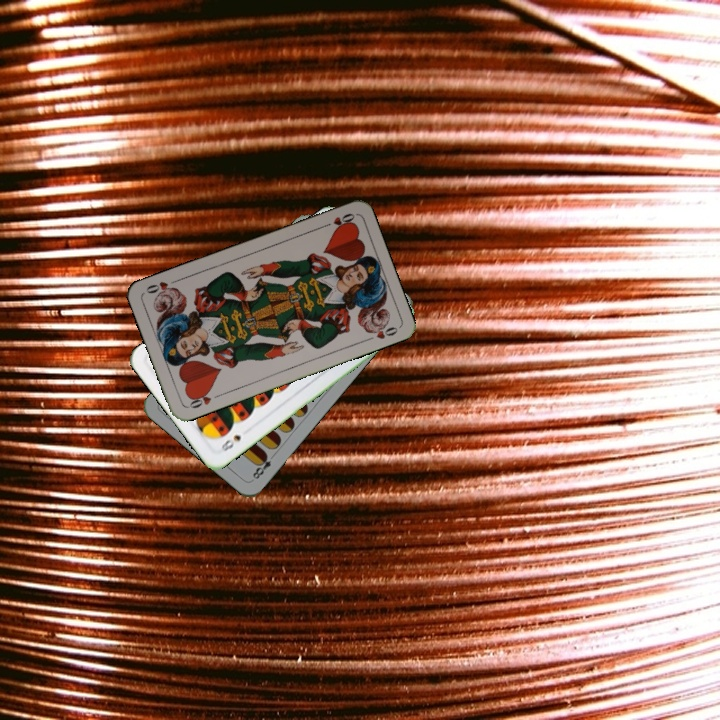E8: (248, 449, 278, 482)
HO: (184, 387, 223, 411), (318, 209, 357, 231)
S8: (217, 431, 244, 454)
